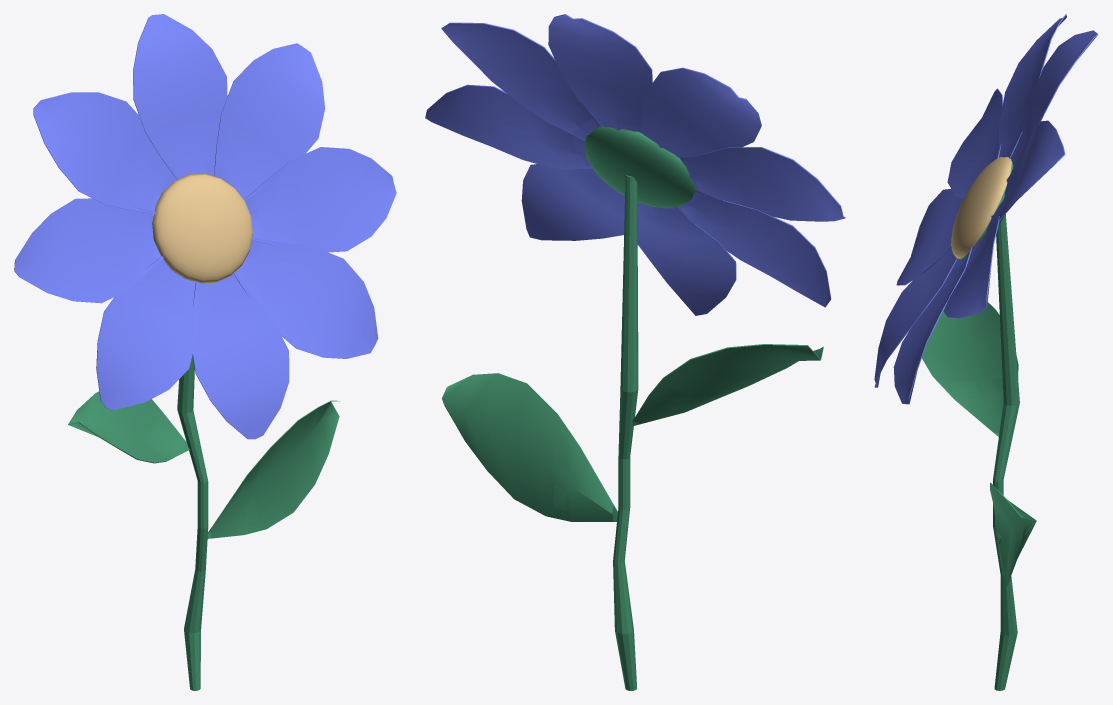
The model's file is park_flower.fbx.
The picture shows the model from 3 angles, left to right: view 1: azimuth 30°, elevation 25°; view 2: azimuth 150°, elevation 25°; view 3: azimuth 270°, elevation 25°; orthographic projection. The views are drawn at different scales.
Visible parts, largest first — view 1: polySurface2, polySurface11, polySurface3, pCylinder1; view 2: polySurface2, polySurface11, pCylinder1, polySurface3; view 3: polySurface2, polySurface11, pCylinder1, polySurface3.
Part boxes in pixels (x1=…): polySurface2: x1=14, y1=14, x2=396, y2=439; polySurface11: x1=68, y1=391, x2=339, y2=538; polySurface3: x1=152, y1=173, x2=252, y2=283; pCylinder1: x1=177, y1=356, x2=208, y2=690; polySurface2: x1=425, y1=14, x2=845, y2=315; polySurface11: x1=442, y1=344, x2=823, y2=521; pCylinder1: x1=613, y1=175, x2=638, y2=690; polySurface3: x1=584, y1=126, x2=695, y2=208; polySurface2: x1=874, y1=14, x2=1098, y2=404; polySurface11: x1=922, y1=302, x2=1036, y2=586; pCylinder1: x1=993, y1=214, x2=1019, y2=690; polySurface3: x1=951, y1=157, x2=1013, y2=259.
Size of the model in its own units: 5.1 by 8.22 by 2.54.
